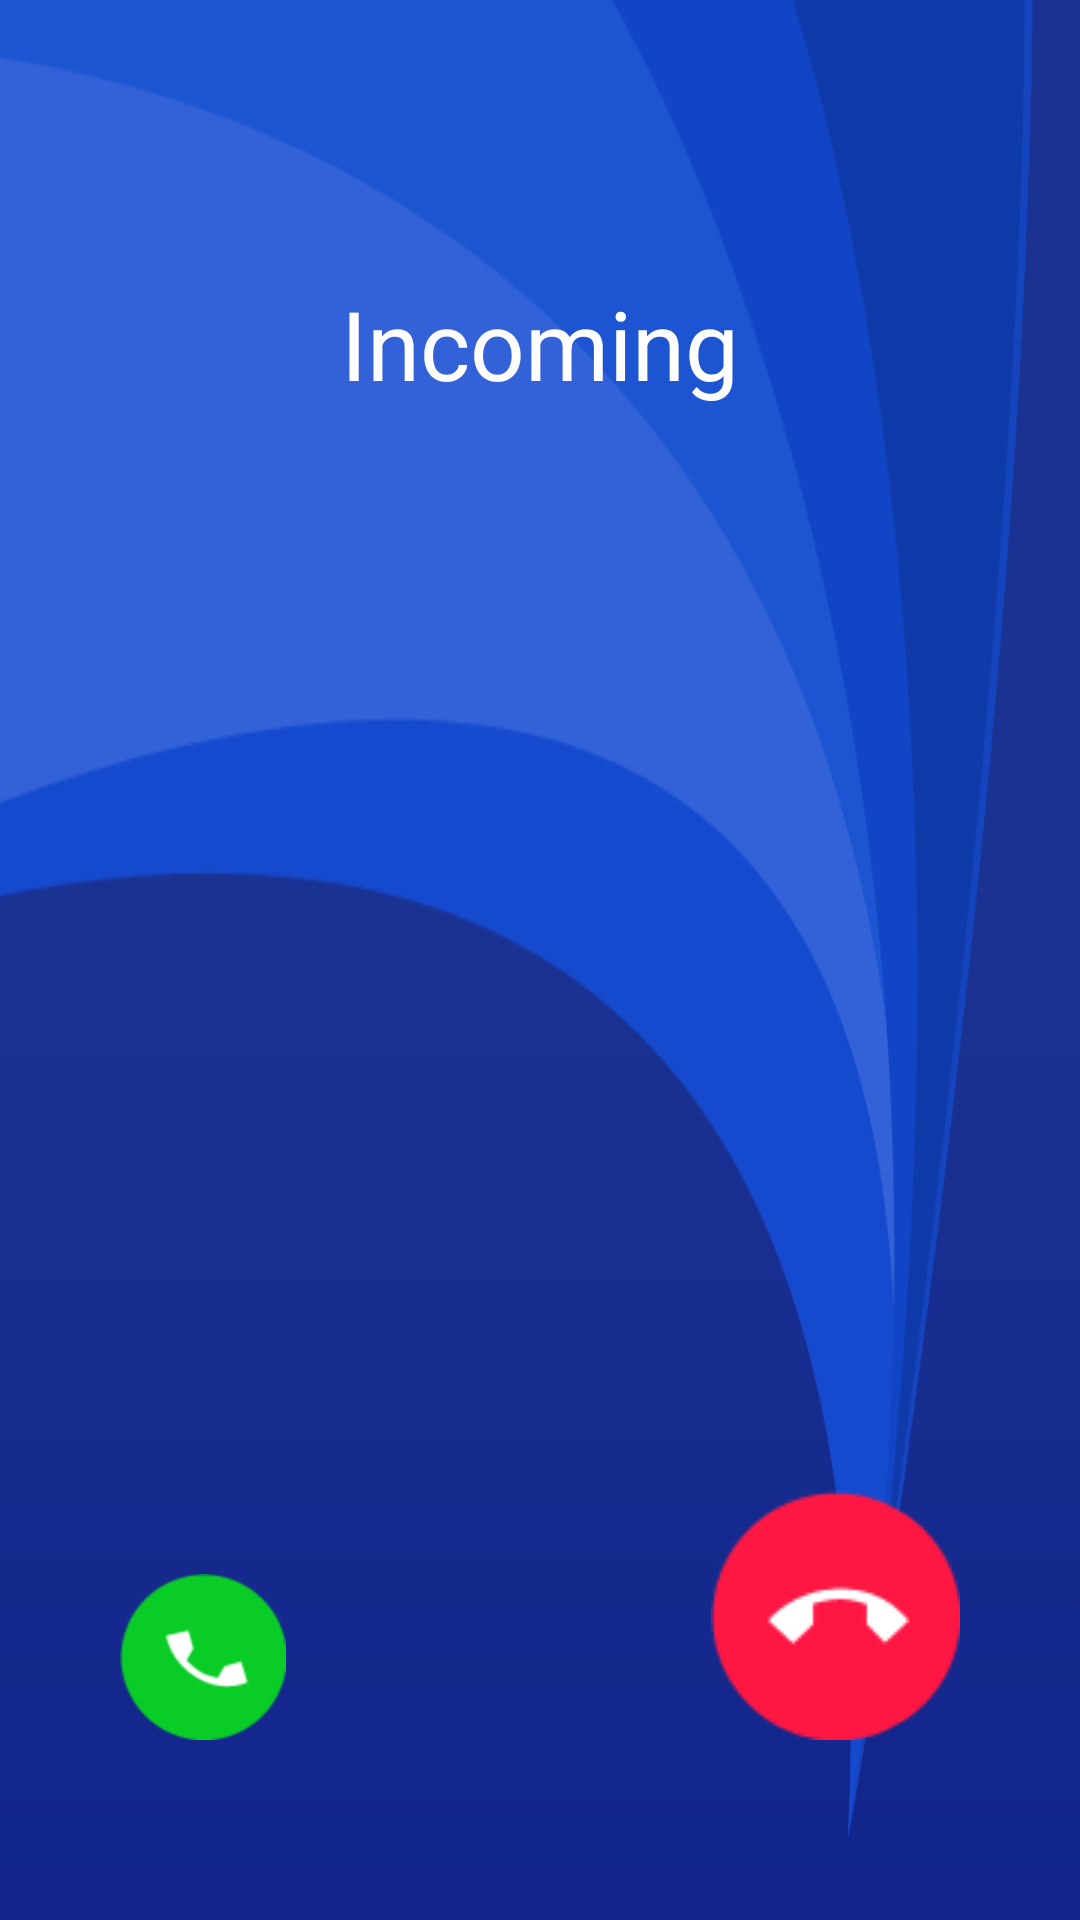

Screen size 1080×1920. Icon name, then its box in pixels as rect(x1, y1, x2, y2):
jianpan bohao: rect(120, 1574, 286, 1740)
jianpan guaduan: rect(711, 1491, 960, 1740)
